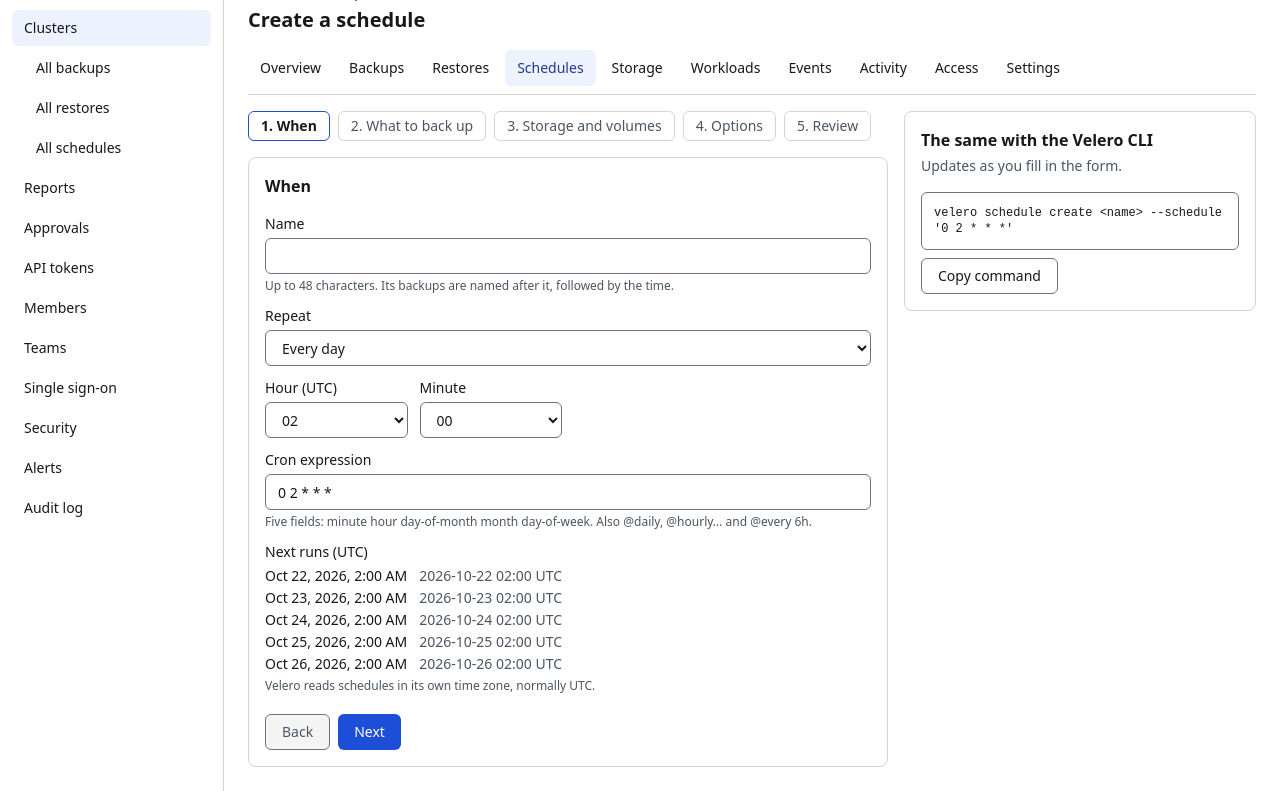
Test: the schedule wizard: creating › needs a name
This screenshot has width=1280, height=791.
(page scrolled)
Check: the heading "When" is shown, box left=265, top=175, right=311, bottom=197
Click the button "Next". click: click(370, 732)
box: left=338, top=714, right=401, bottom=750
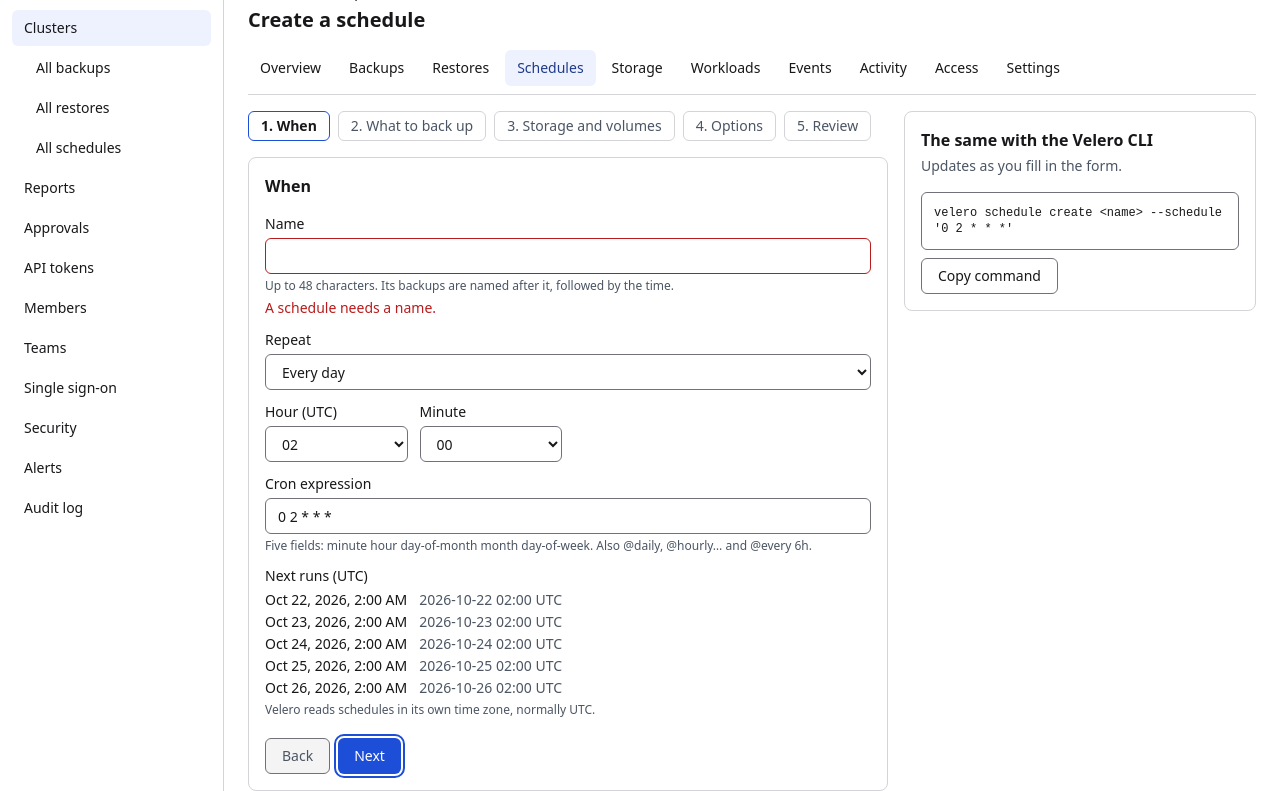
Check: the heading "When" is shown, box left=265, top=175, right=311, bottom=197
Check: the message shows "needs a name", box left=265, top=298, right=436, bottom=317
